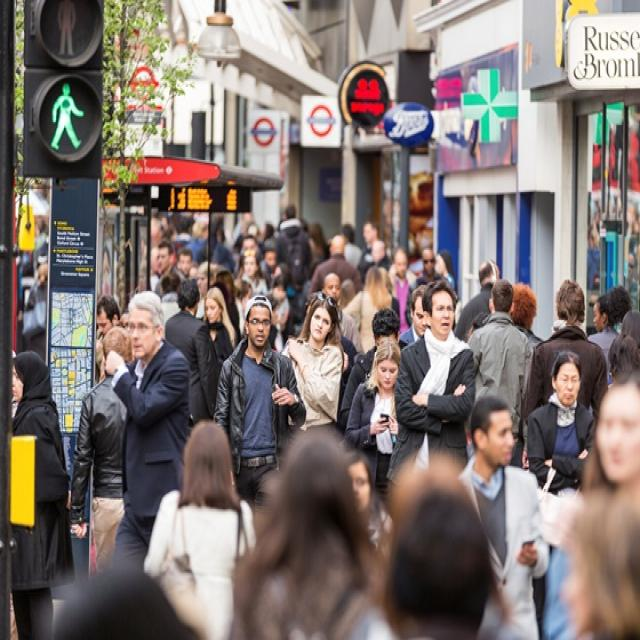body: (224, 431, 405, 640), (137, 412, 260, 638), (543, 371, 640, 638), (104, 290, 193, 574), (454, 390, 553, 640), (385, 277, 478, 514), (210, 291, 309, 501), (9, 347, 76, 640), (65, 323, 137, 585), (517, 276, 610, 428), (464, 276, 535, 469), (525, 348, 600, 498), (52, 568, 198, 638), (280, 286, 346, 433), (344, 338, 403, 498), (162, 279, 221, 428), (150, 212, 275, 282), (337, 305, 405, 431), (15, 220, 55, 356), (585, 283, 632, 387), (342, 264, 394, 356), (405, 245, 458, 328), (455, 258, 500, 344), (308, 233, 364, 291), (273, 203, 312, 285), (201, 283, 238, 366), (385, 244, 417, 332), (337, 218, 388, 270), (606, 300, 639, 372), (509, 282, 545, 347), (396, 282, 428, 344), (273, 262, 294, 351), (86, 280, 121, 324), (226, 284, 252, 332), (157, 282, 180, 328), (436, 244, 458, 289), (90, 322, 106, 379), (310, 222, 331, 264), (340, 274, 362, 305), (406, 242, 423, 278)
